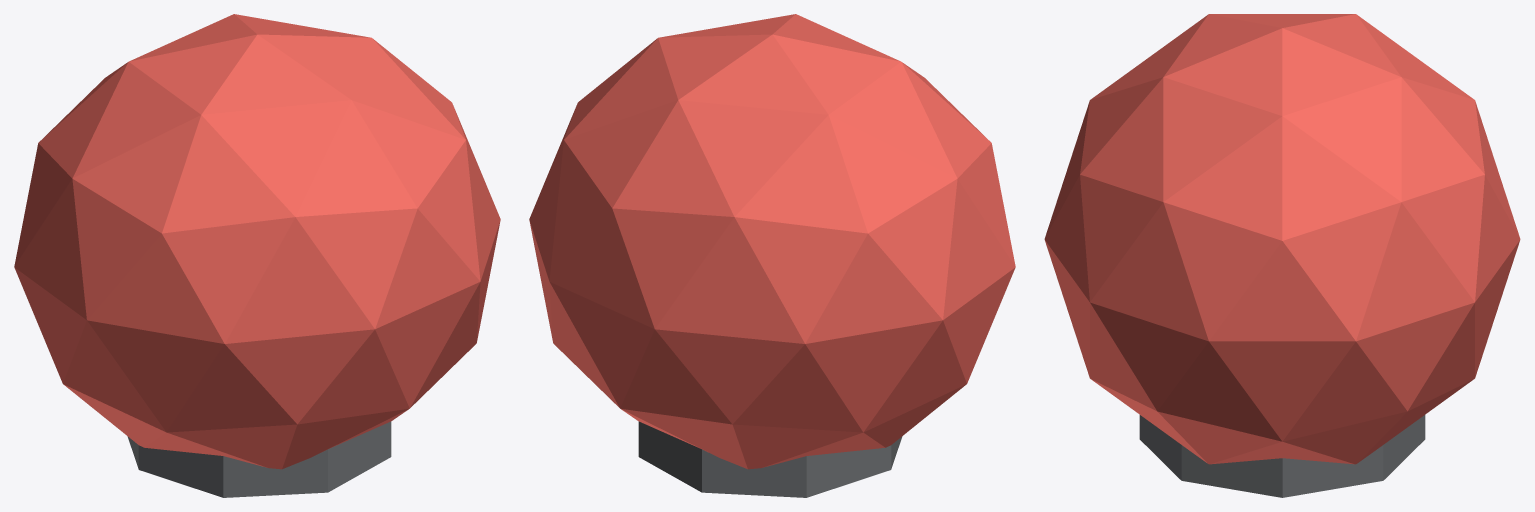
File: tee_marker_01.glb
3 renders of one model, left to right at view 1: azimuth 30°, elevation 25°; view 2: azimuth 150°, elevation 25°; view 3: azimuth 270°, elevation 25°, orthographic.
Parts seen in each view (by area): view 1: Tee_marker_01; view 2: Tee_marker_01; view 3: Tee_marker_01.
Boxes of the visible parts, x1=… form: Tee_marker_01: x1=14, y1=14, x2=500, y2=497; Tee_marker_01: x1=529, y1=14, x2=1015, y2=497; Tee_marker_01: x1=1044, y1=14, x2=1520, y2=497.
Bounding box in the file's own units: 0.3994 × 0.385 × 0.3933.
